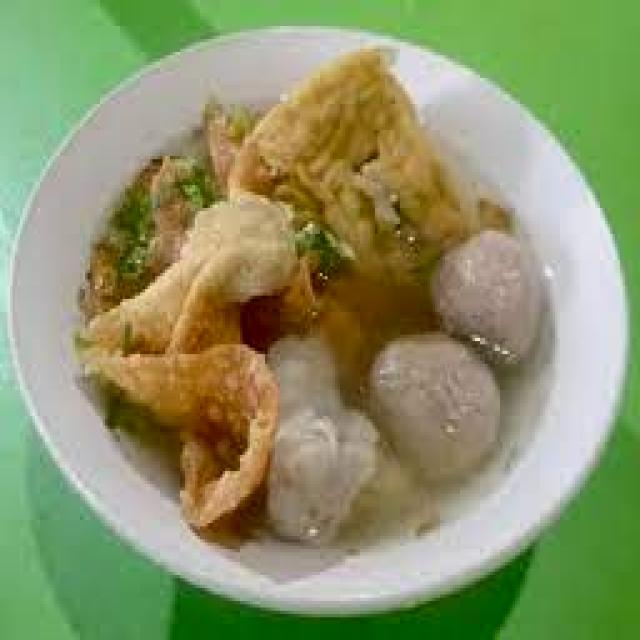bakso: (75, 58, 548, 556)
